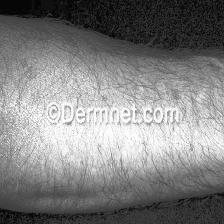Benign Marking or Mole: (79, 133, 206, 191), (95, 54, 223, 108)
